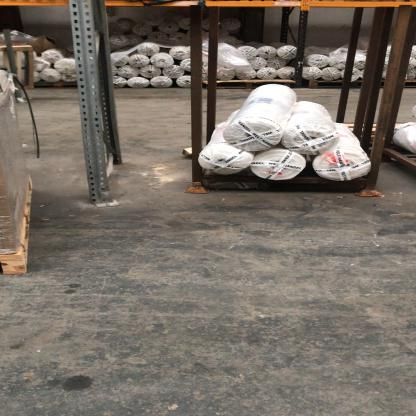vertical_damage: (83, 179, 120, 208)
